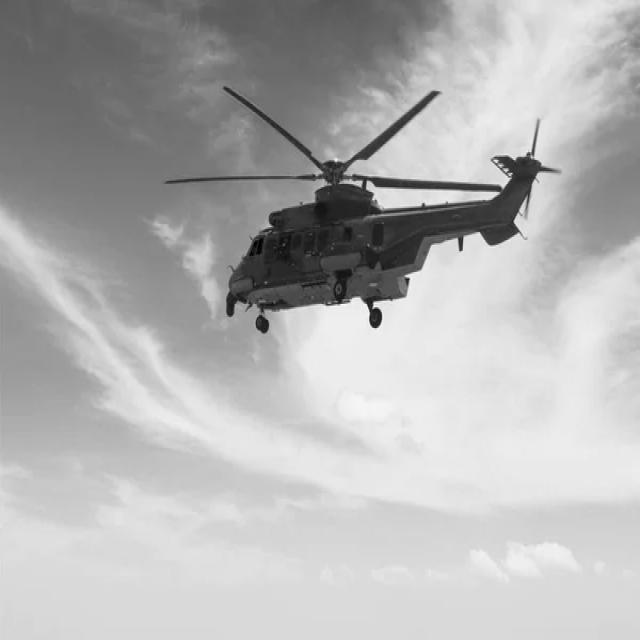Helicopter: (168, 84, 560, 333)
